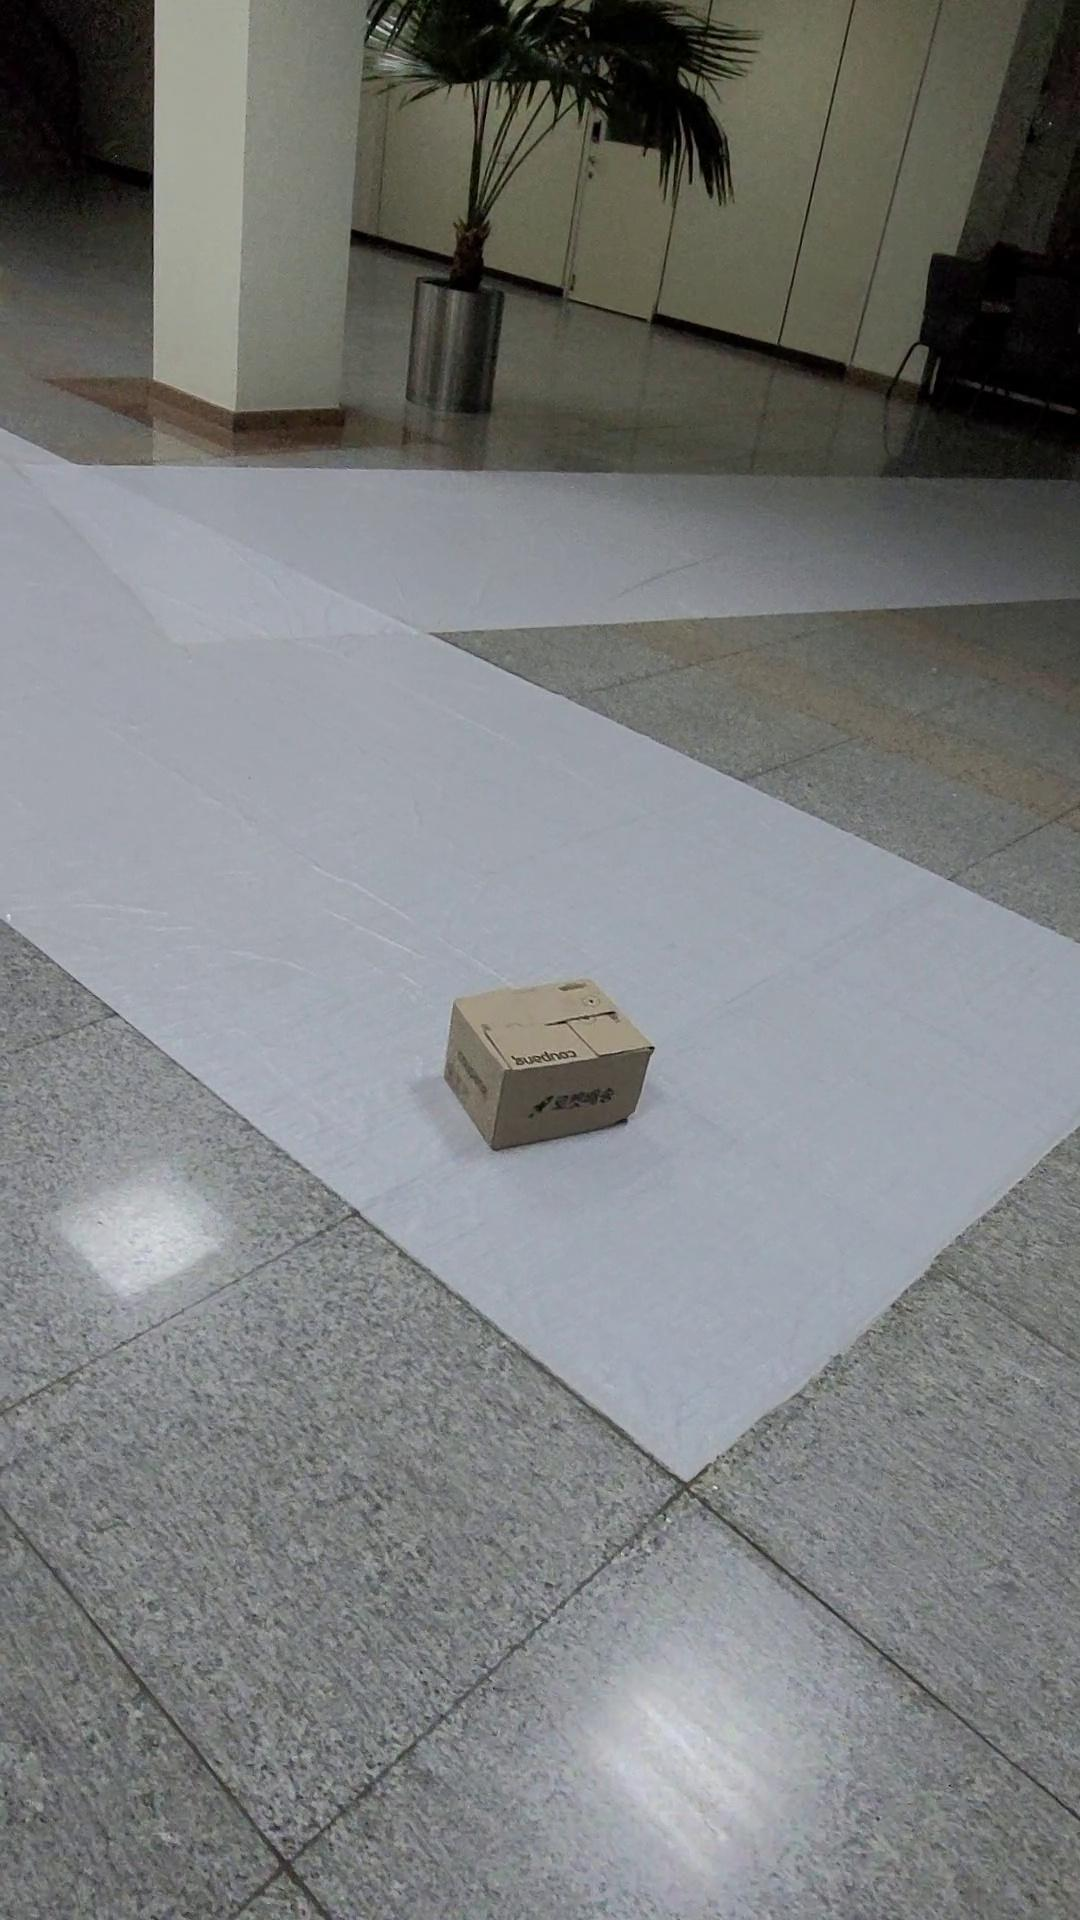Box: (401, 915, 665, 1170)
